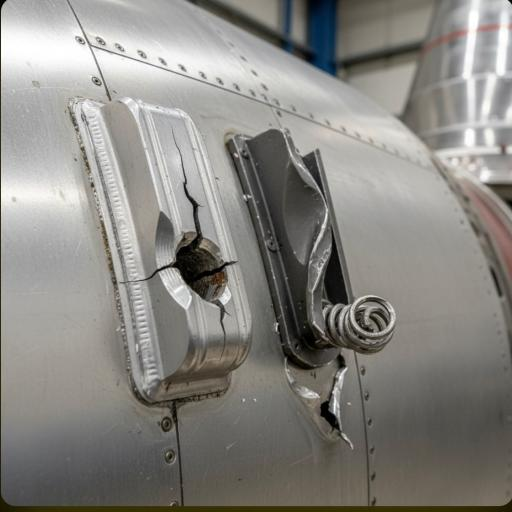fastening crack: (129, 134, 253, 386)
fastening deformation: (267, 105, 372, 390)
